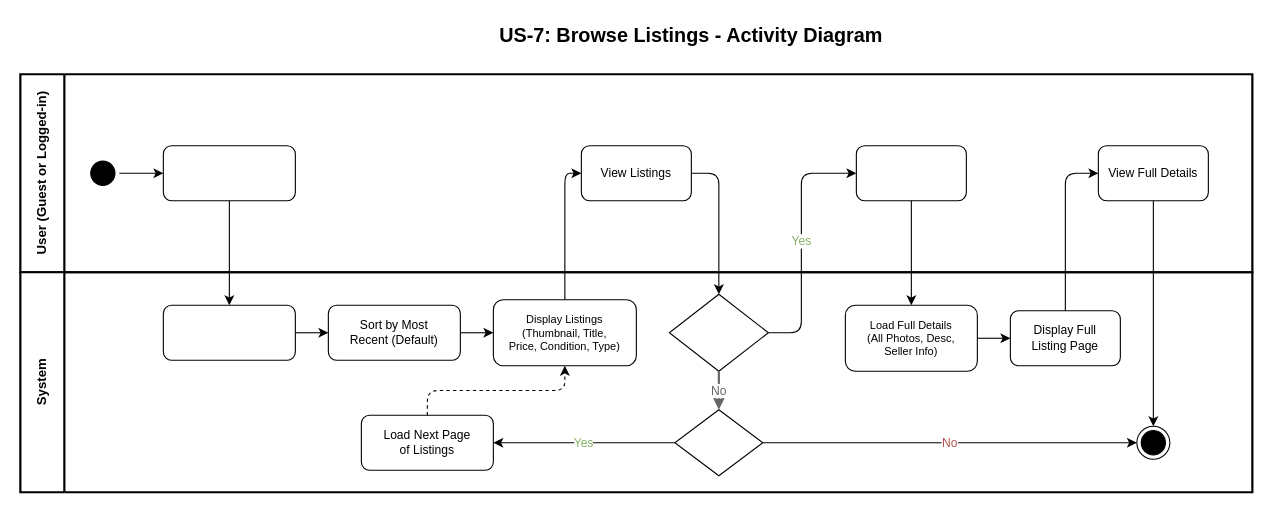
Some shapes in this 1272 by 512 pixel diagram are drawn without their labels. Here are the shapes that lost their labels. From the top down, the box of each, then its label:
(162, 145, 295, 201): Open Browse Page
(855, 145, 966, 201): Click on Listing
(162, 304, 295, 360): Query Active Listings from DB
(668, 293, 768, 371): User Clicks Listing?
(674, 409, 763, 476): Load More?
